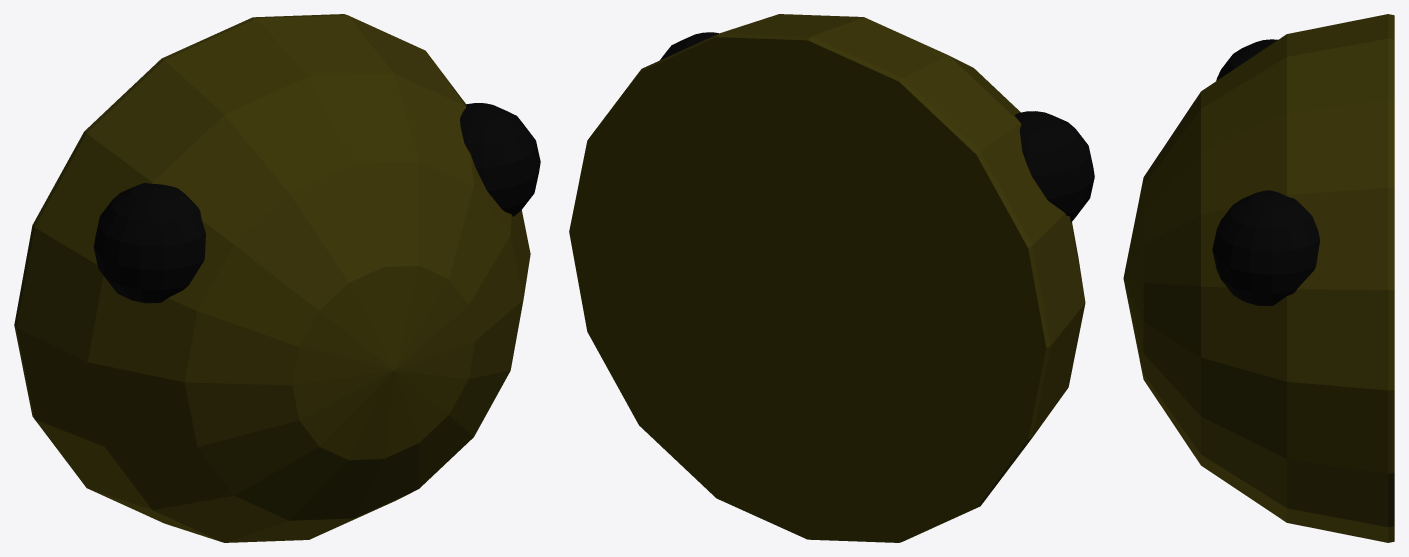
The model's file is round_top.obj.
The picture shows the model from 3 angles, left to right: view 1: azimuth 30°, elevation 25°; view 2: azimuth 150°, elevation 25°; view 3: azimuth 270°, elevation 25°; orthographic projection. The views are drawn at different scales.
Parts seen in each view (by area): view 1: Sphere_Sphere.000_Sphere_Sphere.005, Sphere.001_Sphere.004, Sphere_Sphere.004; view 2: Sphere_Sphere.000_Sphere_Sphere.005, Sphere.001_Sphere.004; view 3: Sphere_Sphere.000_Sphere_Sphere.005, Sphere_Sphere.004, Sphere.001_Sphere.004.
Part boxes in pixels (bbox=[...]): Sphere_Sphere.000_Sphere_Sphere.005: bbox=[14, 14, 530, 542]; Sphere.001_Sphere.004: bbox=[93, 183, 205, 303]; Sphere_Sphere.004: bbox=[460, 103, 540, 216]; Sphere_Sphere.000_Sphere_Sphere.005: bbox=[569, 14, 1085, 542]; Sphere.001_Sphere.004: bbox=[1014, 111, 1094, 222]; Sphere_Sphere.000_Sphere_Sphere.005: bbox=[1123, 14, 1394, 542]; Sphere_Sphere.004: bbox=[1212, 190, 1320, 305]; Sphere.001_Sphere.004: bbox=[1216, 39, 1277, 80].
Bounding box in the file's own units: 5.32 × 5.32 × 2.73.
